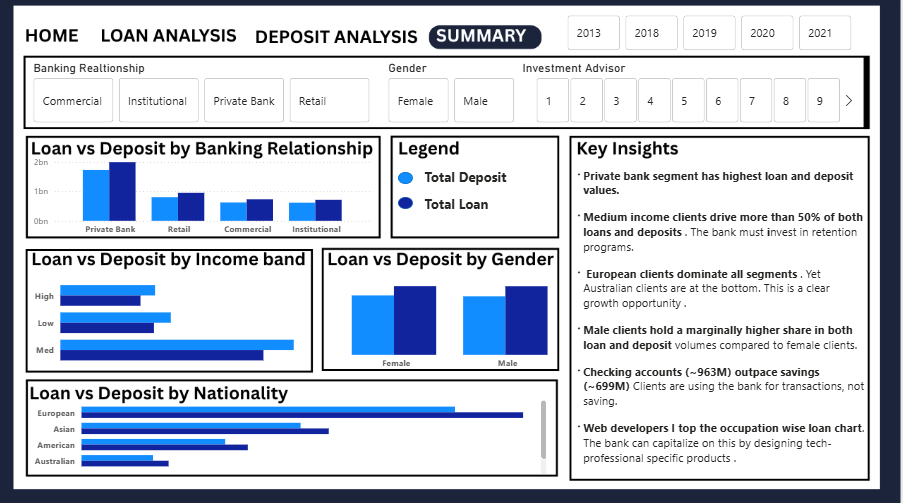

The page's visual inventory and layout, read from the dashboard file:
{"tool":"powerbi","page":{"name":"Summary","canvas":[1280,720],"ordinal":3},"visuals":[{"type":"actionButton","box":[29.8,31.2,100.6,39.7],"z":0},{"type":"actionButton","box":[141.7,31.2,204.1,49.6],"z":1000},{"type":"actionButton","box":[361.4,31.2,239.5,49.6],"z":2000},{"type":"advancedSlicerVisual","title":"Banking Realtionship","fields":{"Values":["Banking_Clients.BRId"]},"box":[46.8,90.7,489,92.1],"z":3000},{"type":"advancedSlicerVisual","title":"Gender","fields":{"Values":["Banking_Clients.GenderId"]},"box":[549.9,90.7,189.9,92.1],"z":4000},{"type":"advancedSlicerVisual","fields":{"Values":["Banking_Clients.IAId"]},"box":[739.8,90.7,483.3,92.1],"z":5000},{"type":"advancedSlicerVisual","title":"Gender","fields":{"Values":["Banking_Clients.Year of joining"]},"box":[783.8,21.3,453.5,59.5],"z":6000},{"type":"clusteredColumnChart","fields":{"Category":["Banking_Clients.BRId"],"Y":["Banking_Clients.Total deposit","Banking_Clients.Total loan"]},"box":[46.8,219.7,489,127.6],"z":7000},{"type":"clusteredBarChart","fields":{"Y":["Banking_Clients.Total loan","Banking_Clients.Total deposit"],"Category":["Banking_Clients.Income Band"]},"box":[46.8,379.8,402.5,157.3],"z":8000},{"type":"clusteredColumnChart","fields":{"Category":["Banking_Clients.GenderId"],"Y":["Banking_Clients.Total deposit","Banking_Clients.Total loan"]},"box":[355.7,360,578.3,177.2],"z":9000},{"type":"clusteredBarChart","fields":{"Y":["Banking_Clients.Total deposit","Banking_Clients.Total loan"],"Category":["Banking_Clients.Nationality"]},"box":[46.8,558.4,737,123.3],"z":10000},{"type":"shape","box":[568.3,248,21.3,17],"z":11000},{"type":"textbox","box":[600.9,236.7,182.8,38.3],"z":12000},{"type":"textbox","box":[600.9,275,129,45.4],"z":13000},{"type":"shape","box":[568.3,283.5,21.3,17],"z":14000},{"type":"textbox","box":[807.9,236.7,429.4,462],"z":15000}]}

Visuals, with their boxes in screenshot pixels (x1, y1, x2, y2), scaled from the page's 1280x720 canvas onto the 903x503 screenshot:
actionButton: x1=21, y1=22, x2=92, y2=50
actionButton: x1=100, y1=22, x2=244, y2=56
actionButton: x1=255, y1=22, x2=424, y2=56
"Banking Realtionship" advancedSlicerVisual: x1=33, y1=63, x2=378, y2=128
"Gender" advancedSlicerVisual: x1=388, y1=63, x2=522, y2=128
advancedSlicerVisual - Banking_Clients.IAId: x1=522, y1=63, x2=863, y2=128
"Gender" advancedSlicerVisual: x1=553, y1=15, x2=873, y2=56
clusteredColumnChart - Banking_Clients.BRId x Banking_Clients.Total deposit: x1=33, y1=153, x2=378, y2=243
clusteredBarChart - Banking_Clients.Total loan x Banking_Clients.Total deposit: x1=33, y1=265, x2=317, y2=375
clusteredColumnChart - Banking_Clients.GenderId x Banking_Clients.Total deposit: x1=251, y1=252, x2=659, y2=375
clusteredBarChart - Banking_Clients.Total deposit x Banking_Clients.Total loan: x1=33, y1=390, x2=553, y2=476
shape: x1=401, y1=173, x2=416, y2=185
textbox: x1=424, y1=165, x2=553, y2=192
textbox: x1=424, y1=192, x2=515, y2=224
shape: x1=401, y1=198, x2=416, y2=210
textbox: x1=570, y1=165, x2=873, y2=488
